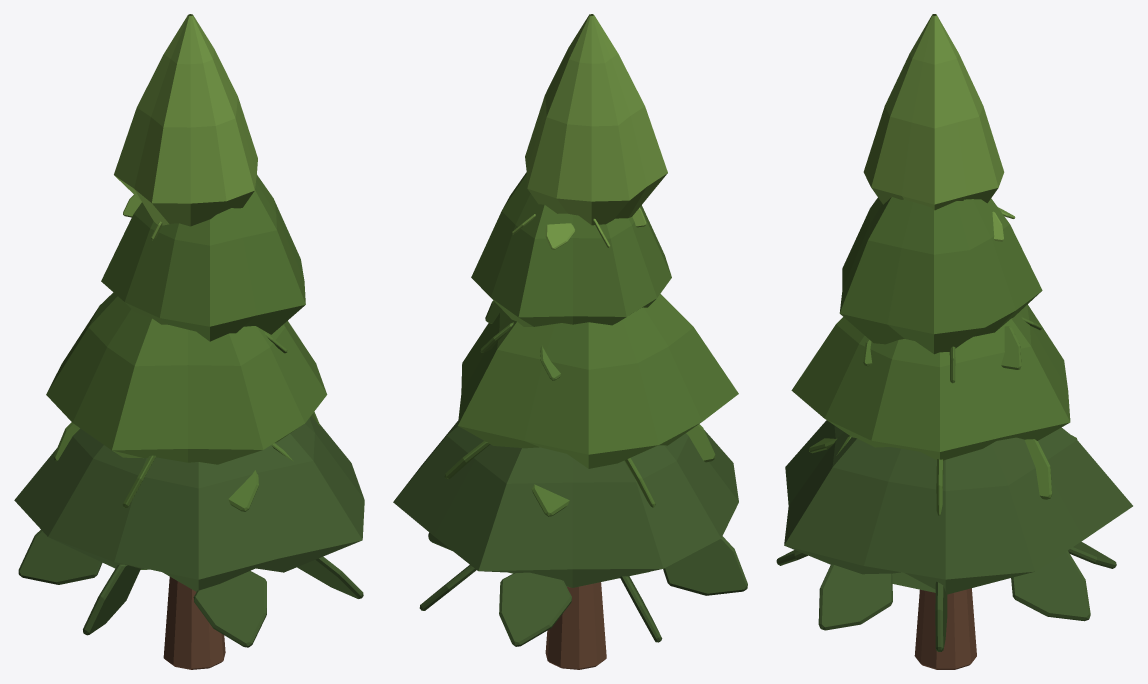
The model's file is prop_pine_a.glb.
3 views of the same model, side by side, from view 1: azimuth 30°, elevation 25°; view 2: azimuth 150°, elevation 25°; view 3: azimuth 270°, elevation 25° (orthographic).
Visible parts, largest first — view 1: pna_tier0, pna_tier1, pna_tier2, pna_tier3, pna_trunk, pna_tier0_leaf5, pna_tier0_leaf3, pna_tier0_leaf4, pna_tier0_leaf6, pna_tier1_leaf5; view 2: pna_tier0, pna_tier1, pna_tier3, pna_tier2, pna_trunk, pna_tier0_leaf2, pna_tier0_leaf4, pna_tier0_leaf3, pna_tier1_leaf2, pna_tier3_leaf2, pna_tier0_leaf1, pna_tier1_leaf4; view 3: pna_tier0, pna_tier1, pna_tier2, pna_tier3, pna_trunk, pna_tier0_leaf6, pna_tier0_leaf1, pna_tier1_leaf1, pna_tier0_leaf0, pna_tier2_leaf1, pna_tier0_leaf2.
Part boxes in pixels (x1,y1,x2,y2): pna_tier0: (14, 416, 364, 591); pna_tier1: (46, 292, 327, 464); pna_tier2: (101, 175, 305, 341); pna_tier3: (114, 14, 257, 226); pna_trunk: (163, 577, 225, 669); pna_tier0_leaf5: (193, 571, 266, 647); pna_tier0_leaf3: (18, 530, 102, 584); pna_tier0_leaf4: (83, 564, 140, 635); pna_tier0_leaf6: (297, 556, 363, 598); pna_tier1_leaf5: (228, 470, 258, 511); pna_tier0: (393, 421, 738, 587); pna_tier1: (457, 294, 738, 468); pna_tier3: (525, 14, 667, 225); pna_tier2: (471, 172, 671, 326); pna_trunk: (545, 582, 606, 669); pna_tier0_leaf2: (499, 572, 571, 646); pna_tier0_leaf4: (663, 536, 747, 595); pna_tier0_leaf3: (620, 576, 662, 642); pna_tier1_leaf2: (531, 484, 569, 516); pna_tier3_leaf2: (545, 223, 575, 249); pna_tier0_leaf1: (419, 565, 476, 610); pna_tier1_leaf4: (686, 424, 715, 462); pna_tier0: (784, 420, 1132, 594); pna_tier1: (791, 304, 1070, 460); pna_tier2: (839, 197, 1042, 354); pna_tier3: (863, 14, 1004, 210); pna_trunk: (914, 588, 976, 669); pna_tier0_leaf6: (818, 564, 892, 630); pna_tier0_leaf1: (1011, 550, 1090, 621); pna_tier1_leaf1: (1024, 439, 1052, 499); pna_tier0_leaf0: (935, 581, 947, 651); pna_tier2_leaf1: (1001, 326, 1021, 369); pna_tier0_leaf2: (1068, 541, 1116, 568).
Size of the model in its own units: 1.16 by 2.36 by 1.2.
